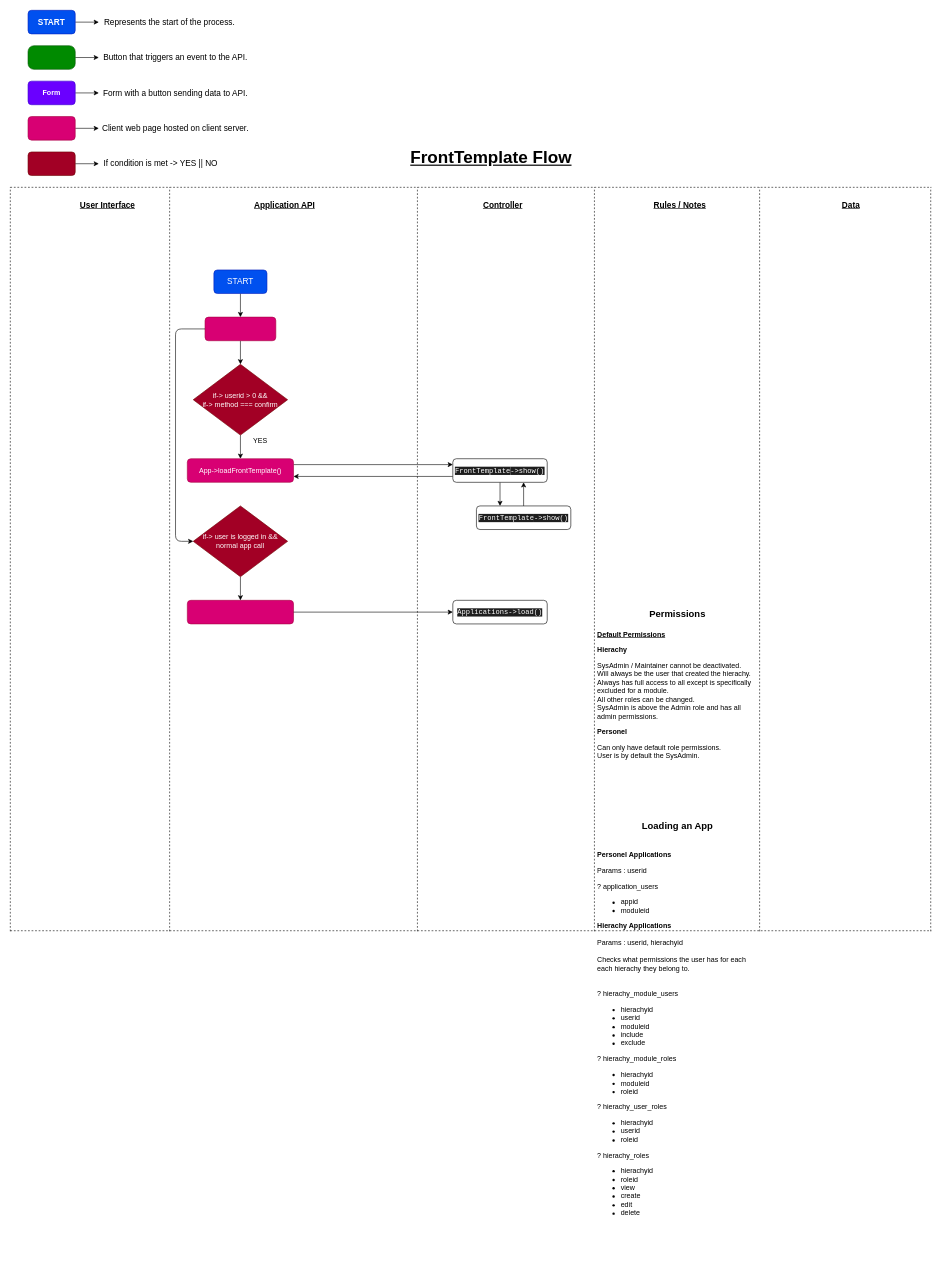
Some shapes in this 942 by 1266 pixel diagram are drawn without their labels. Here are the shapes that lost their labels. From the top down, the centre of each, then its label:
At [51,57]: "Button".
At [51,128]: "Client Page".
At [51,163]: "Condition".
At [240,329]: "App->routeApp()".
At [240,612]: "App->loadController()".
